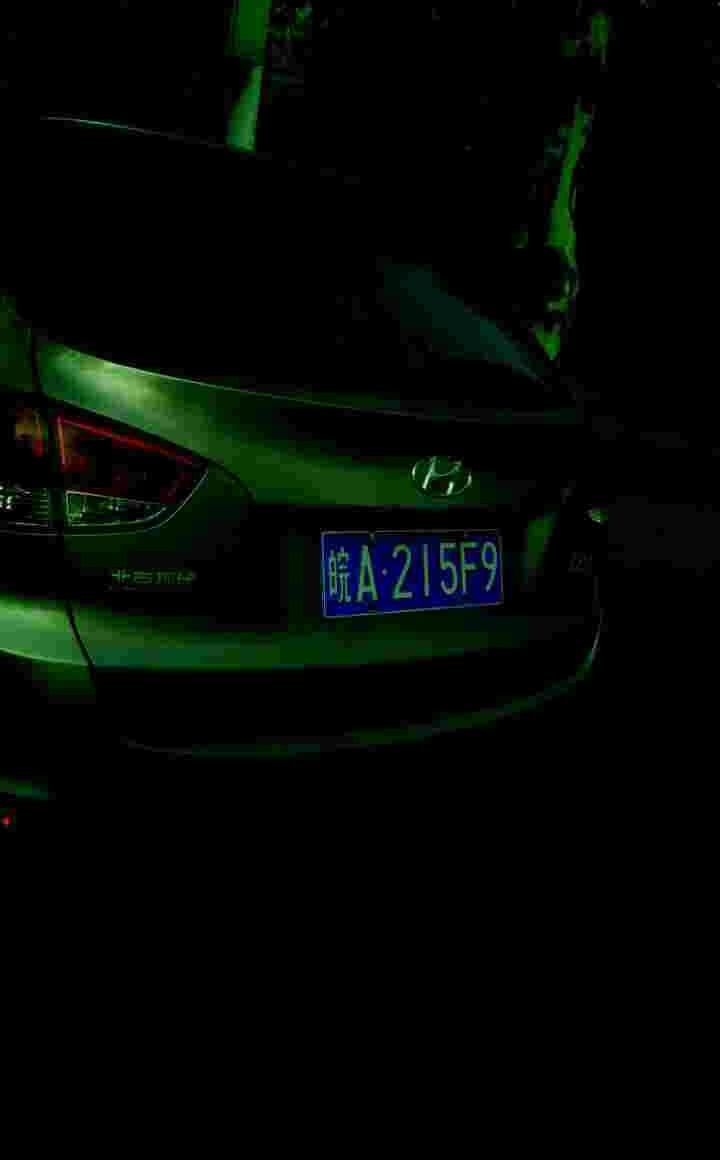license_plate: (319, 527, 511, 627)
